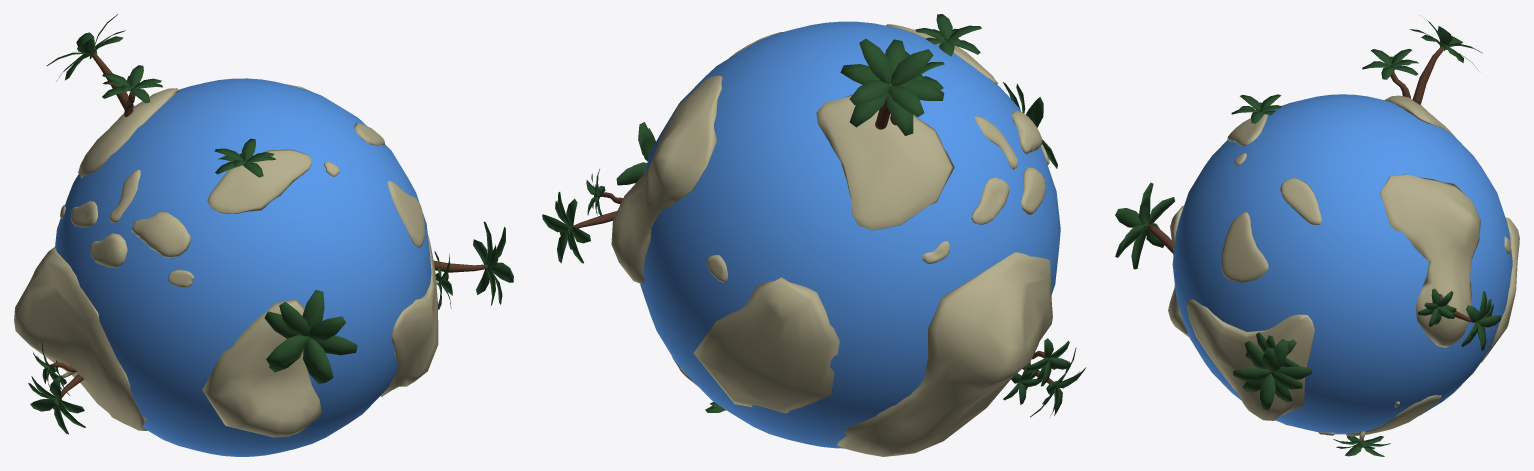
File: planet4_palmtrees.fbx
The picture shows the model from 3 angles, left to right: view 1: azimuth 30°, elevation 25°; view 2: azimuth 150°, elevation 25°; view 3: azimuth 270°, elevation 25°; orthographic projection. The views are drawn at different scales.
Visible parts, largest first — view 1: planet_low, palmtrees; view 2: planet_low, palmtrees; view 3: planet_low, palmtrees.
Boxes of the visible parts, <box> form: planet_low: <box>55,78,431,456</box>; palmtrees: <box>14,14,513,437</box>; planet_low: <box>640,21,1060,448</box>; palmtrees: <box>542,14,1085,456</box>; planet_low: <box>1172,94,1512,434</box>; palmtrees: <box>1115,20,1519,456</box>.
Bounding box in the file's own units: 266 × 234 × 238.
